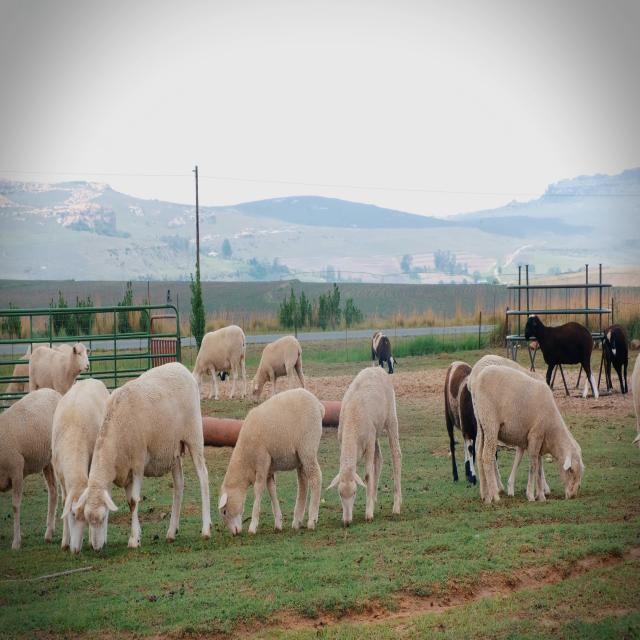sheep: (84, 336, 208, 574), (213, 364, 337, 556), (472, 353, 588, 522), (329, 356, 409, 536), (15, 333, 101, 395), (250, 323, 312, 407)
